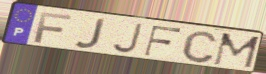C: (180, 29, 219, 65)
F: (142, 24, 184, 58), (32, 11, 73, 45)
J: (72, 17, 108, 50), (110, 22, 145, 55)
M: (211, 32, 262, 71)
